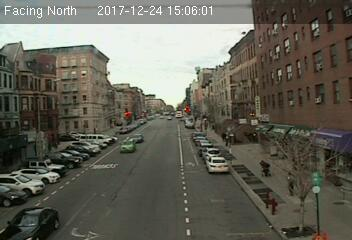car: (1, 204, 67, 239), (205, 156, 229, 173), (119, 137, 136, 153), (201, 147, 222, 156)
